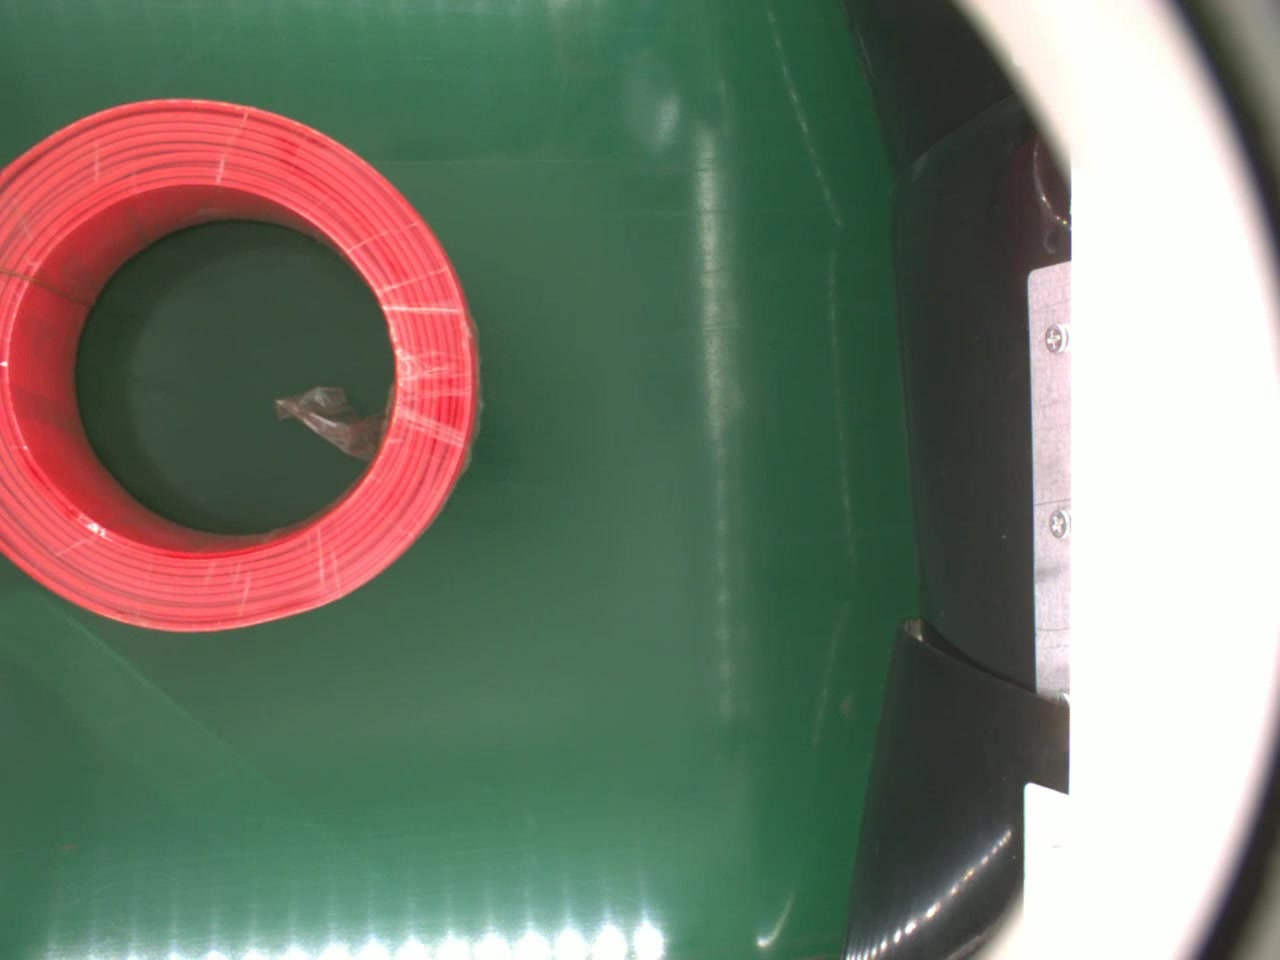red: (0, 91, 483, 634)
